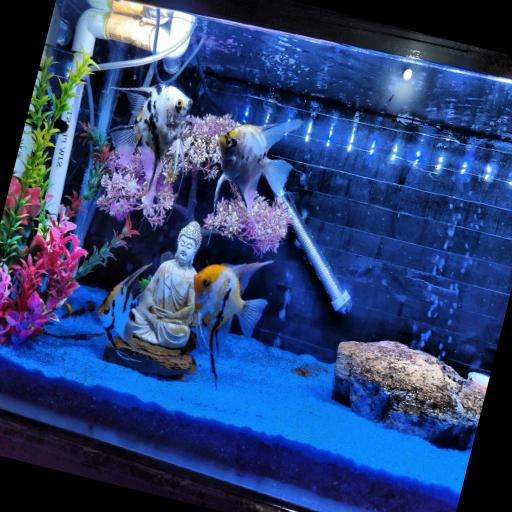Fish: (109, 84, 191, 205), (193, 261, 272, 385), (213, 120, 301, 221), (96, 264, 150, 349)
